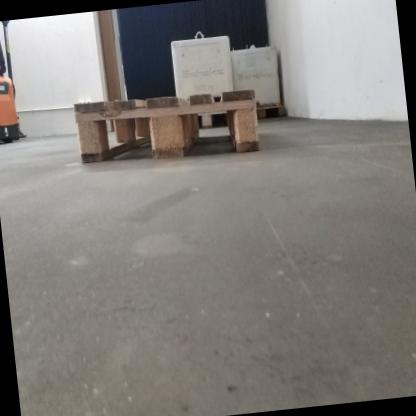BoxFace: (70, 86, 263, 167)
